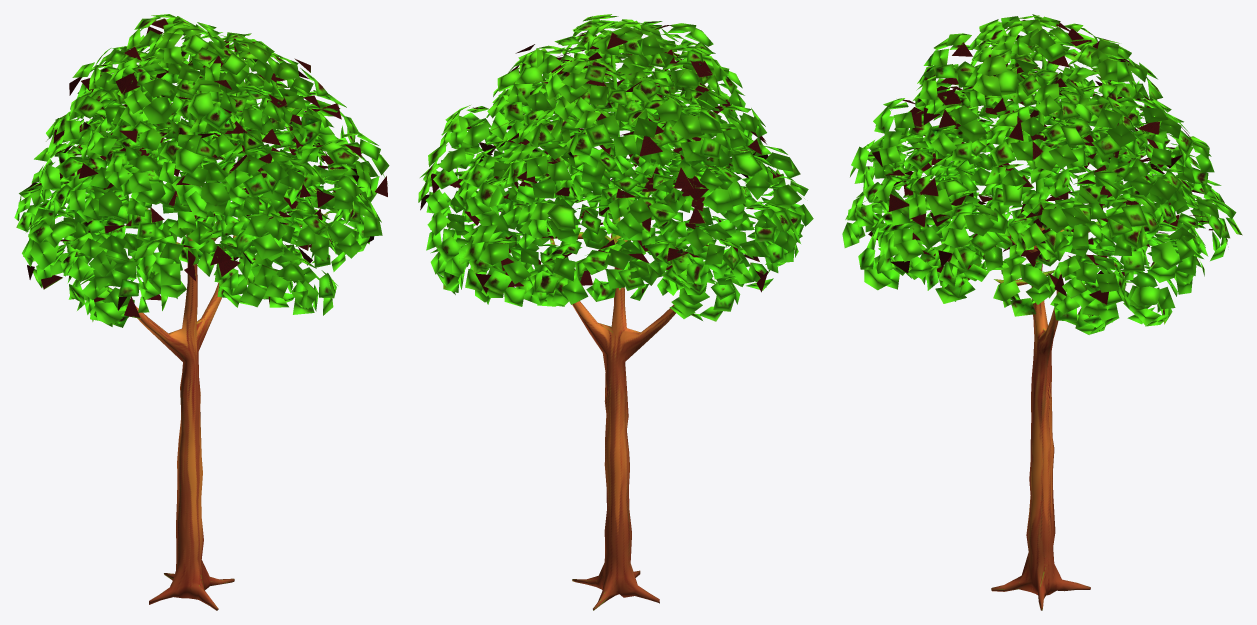
File: stylized-tree.glb
3 renders of one model, left to right at view 1: azimuth 30°, elevation 25°; view 2: azimuth 150°, elevation 25°; view 3: azimuth 270°, elevation 25°, orthographic.
Size of the model in its own units: 0.6289 by 1 by 0.6406.
Materials: 1 (1 with a texture image).
